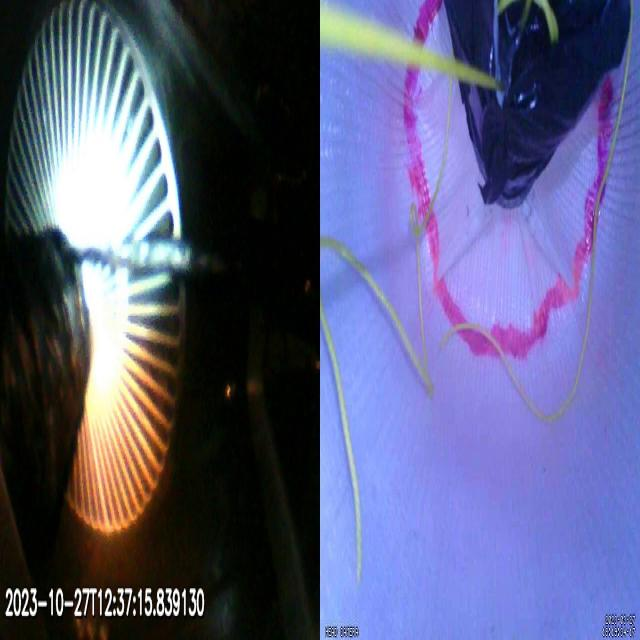red-circle: (403, 0, 615, 360)
